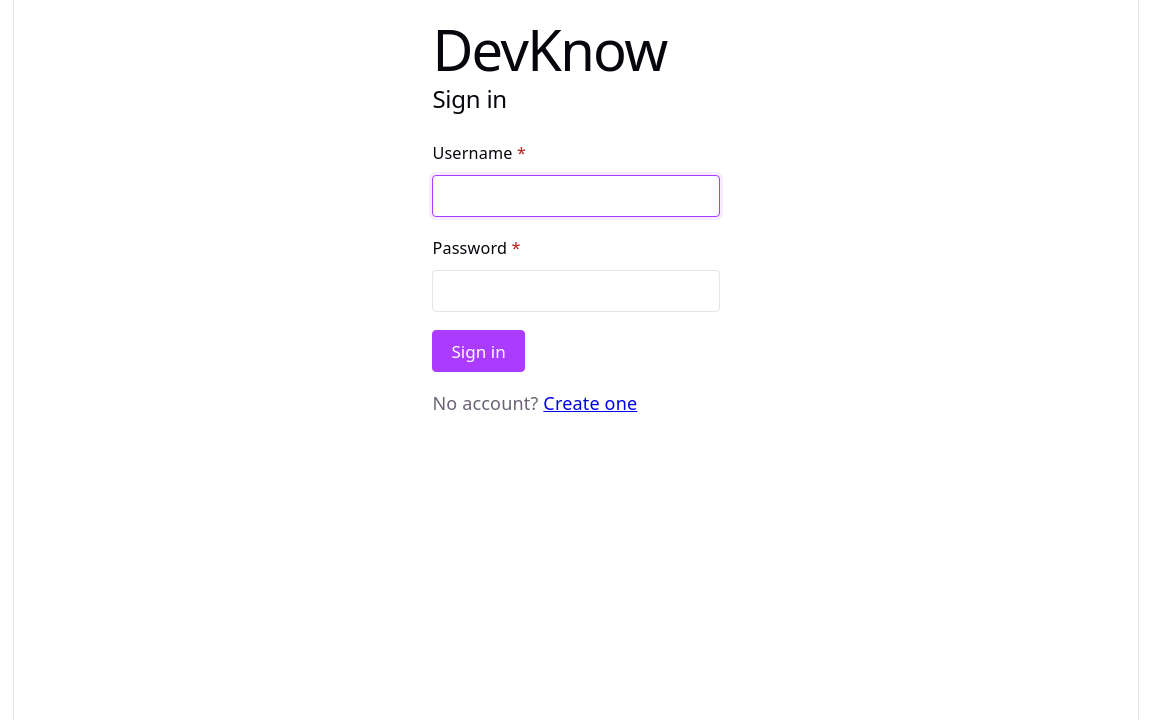
Test case: LoginPage › disables submit button while loading
Type "dev" into the field labelled "Username" at (576, 196), box [432,175,720,217]
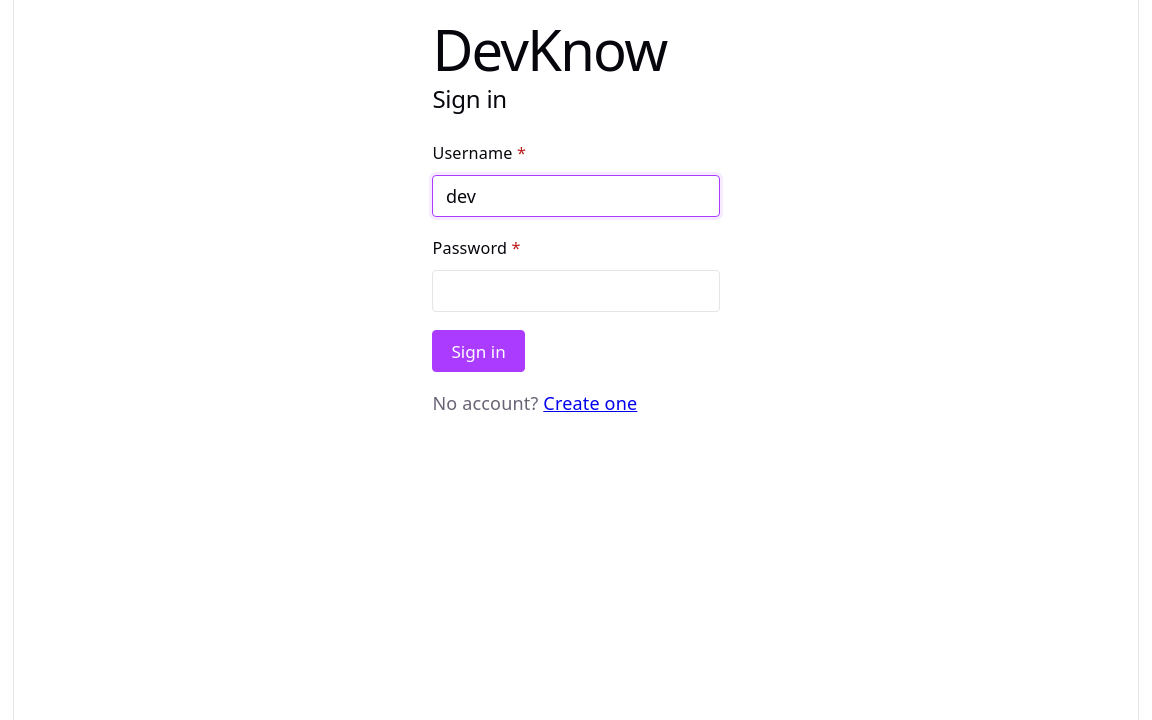
Type "pass123" into the password field labelled "Password" at (576, 291), box [432,270,720,312]
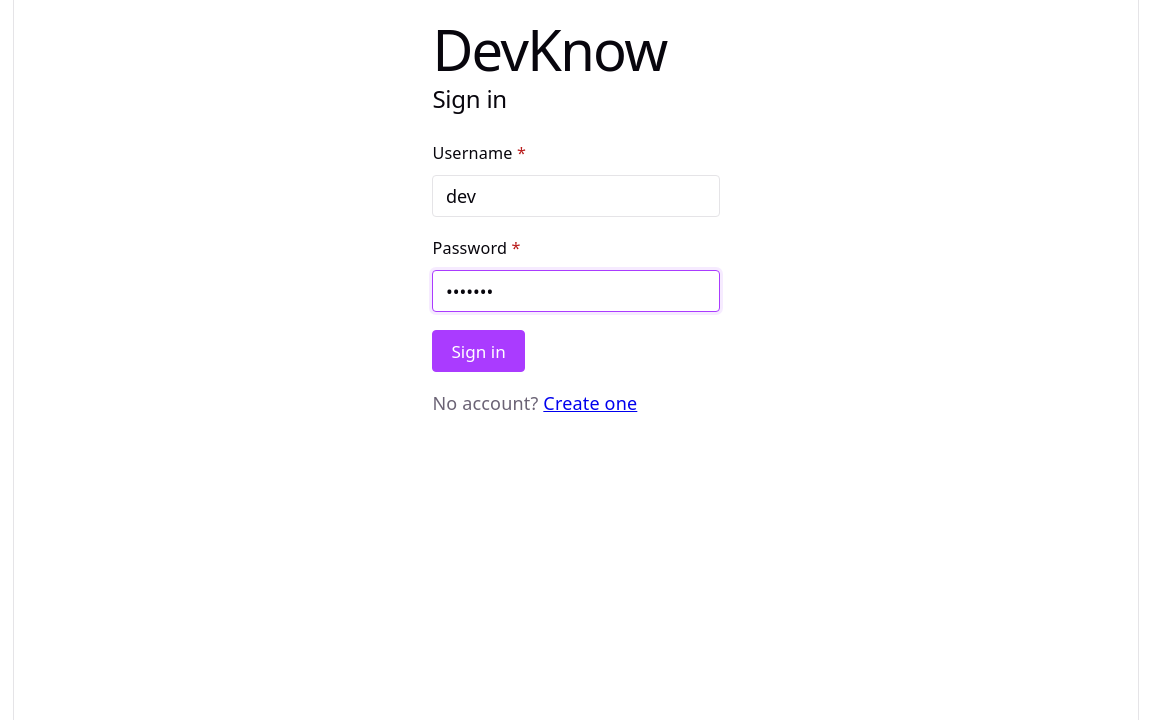
Click the button "Sign in" at (479, 351), box [432,330,525,372]
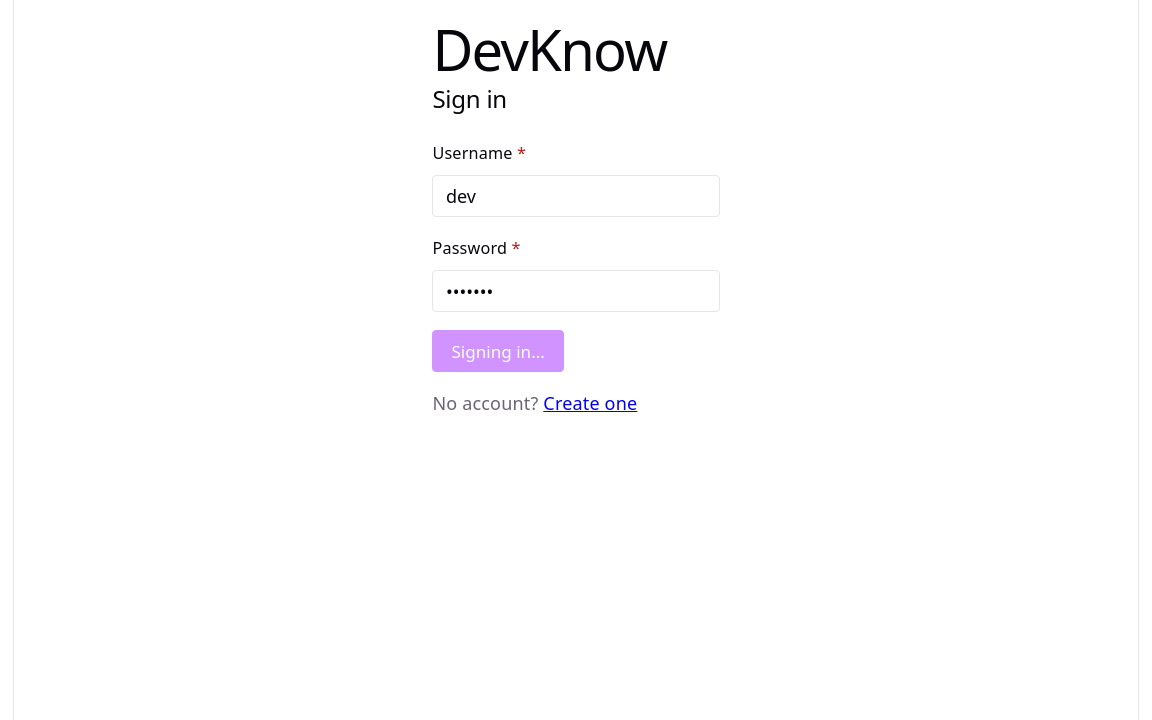
Expected: the button "Signing in…" is disabled, [432,330,564,372]
